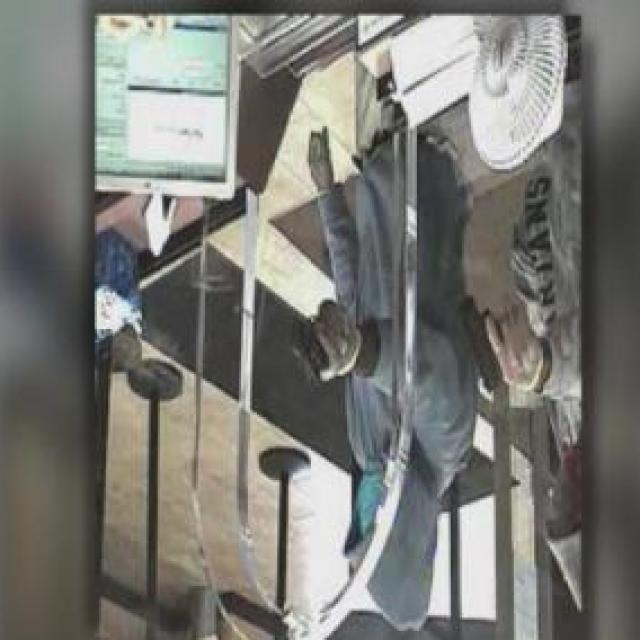pistol: (457, 298, 523, 399), (288, 312, 332, 385)
